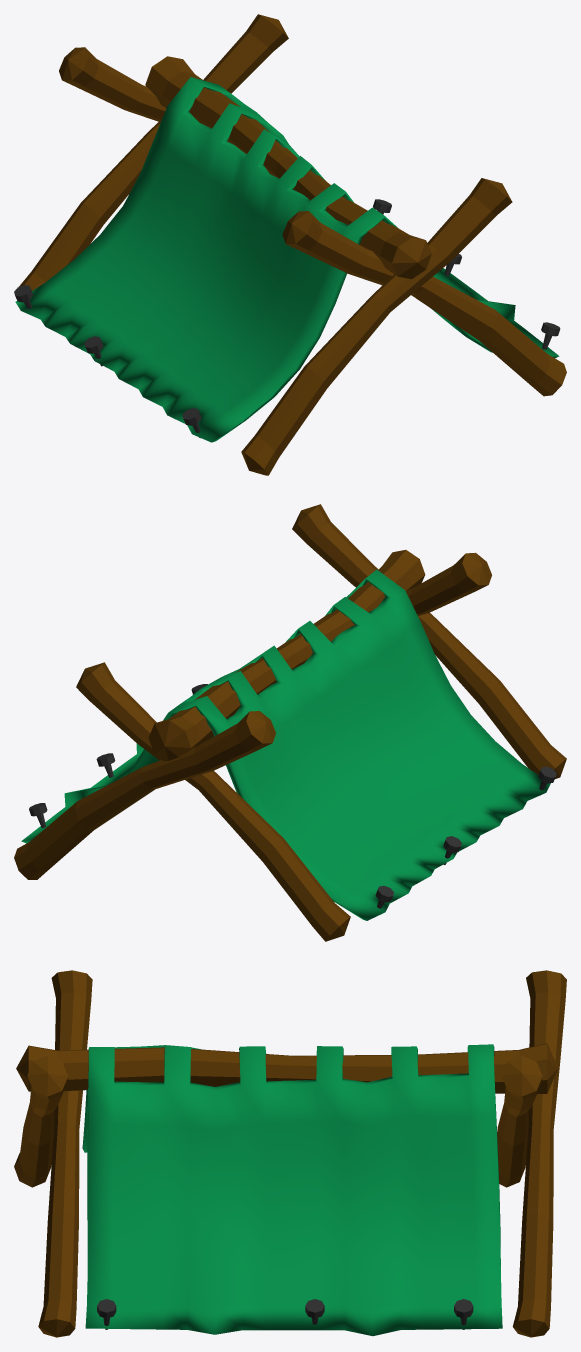
The model's file is tent.fbx.
3 views of the same model, one above another, from view 1: azimuth 30°, elevation 25°; view 2: azimuth 150°, elevation 25°; view 3: azimuth 270°, elevation 25° (orthographic). The views are drawn at different scales.
Visible parts, largest first — view 1: Plane.001; view 2: Plane.001; view 3: Plane.001.
Part boxes in pixels (<box>): Plane.001: <box>14,14,566,475</box>; Plane.001: <box>14,504,566,941</box>; Plane.001: <box>14,970,566,1337</box>.
Bounding box in the file's own units: 696 × 409 × 821.
